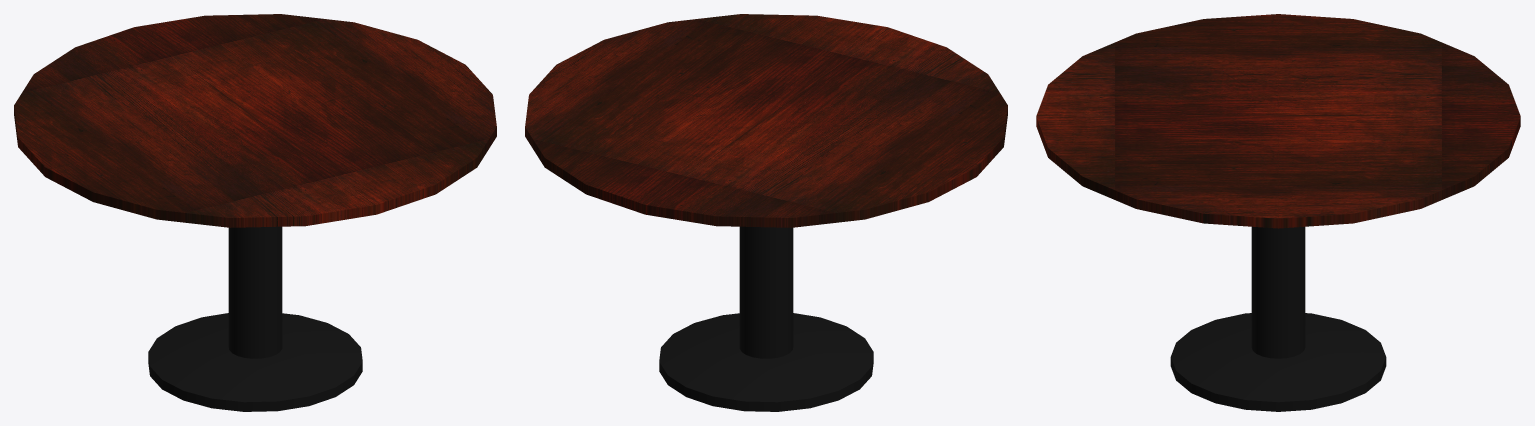
File: table_cafette.FBX
3 views of the same model, side by side, from view 1: azimuth 30°, elevation 25°; view 2: azimuth 150°, elevation 25°; view 3: azimuth 270°, elevation 25° (orthographic).
Visible parts, largest first — view 1: Cylinder003, Cylinder002, Cylinder001; view 2: Cylinder003, Cylinder002, Cylinder001; view 3: Cylinder003, Cylinder002, Cylinder001.
Boxes of the visible parts, x1,y1,x2,y2 form: Cylinder003: [14, 14, 496, 227]; Cylinder002: [148, 313, 362, 411]; Cylinder001: [228, 226, 282, 358]; Cylinder003: [525, 14, 1007, 227]; Cylinder002: [659, 313, 873, 411]; Cylinder001: [739, 226, 793, 358]; Cylinder003: [1036, 14, 1520, 228]; Cylinder002: [1170, 313, 1386, 411]; Cylinder001: [1251, 226, 1305, 358].
Size of the model in its own units: 90 by 51.26 by 90.
Materials: 2 (1 with a texture image).
